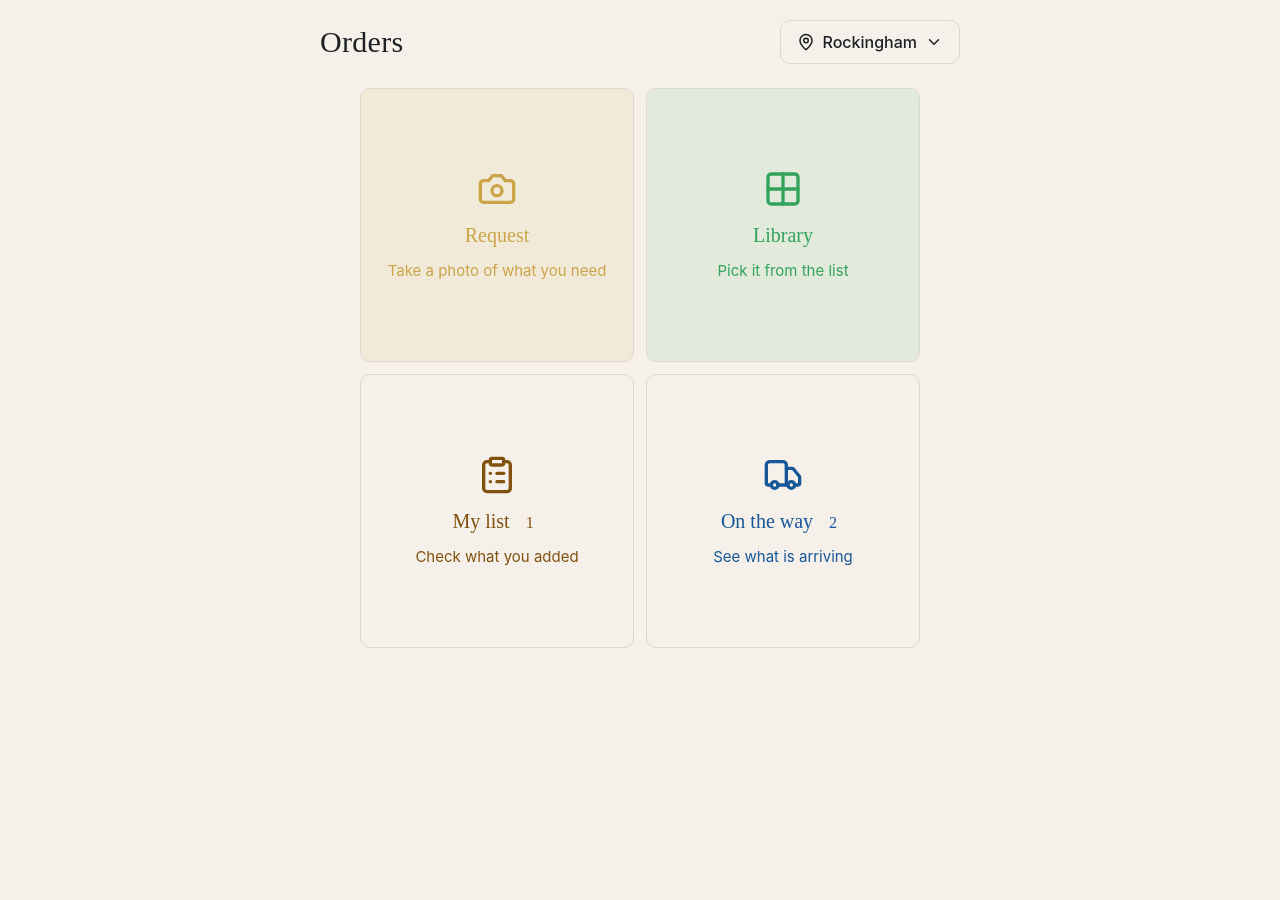
requester screens › multiple houses open large-button picker
Later steps or results of the test are not shown.
Click the button "Rockingham". click: (870,42)
box: [780,20,960,64]
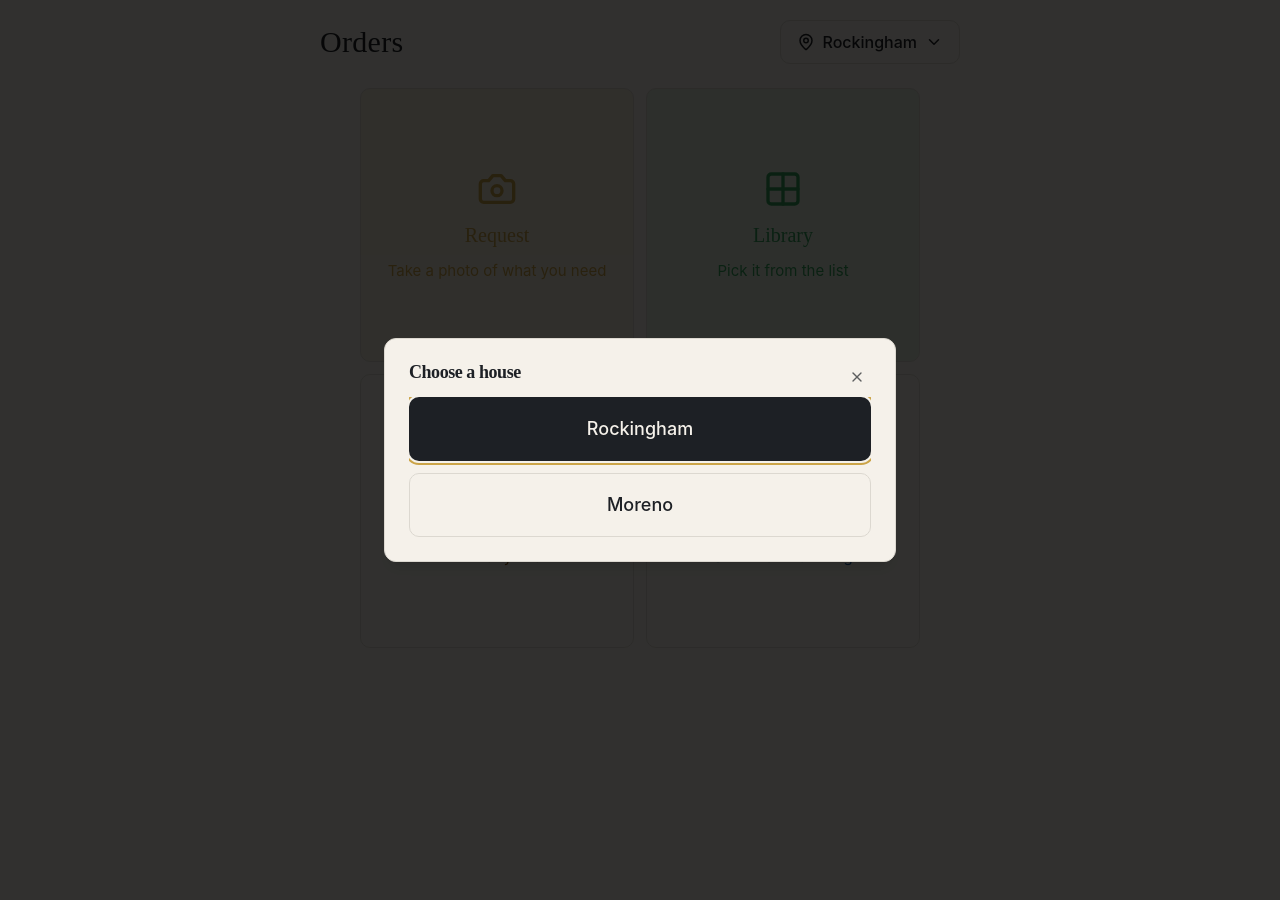
Check: the button "Moreno" is shown, box [409,473,871,537]
